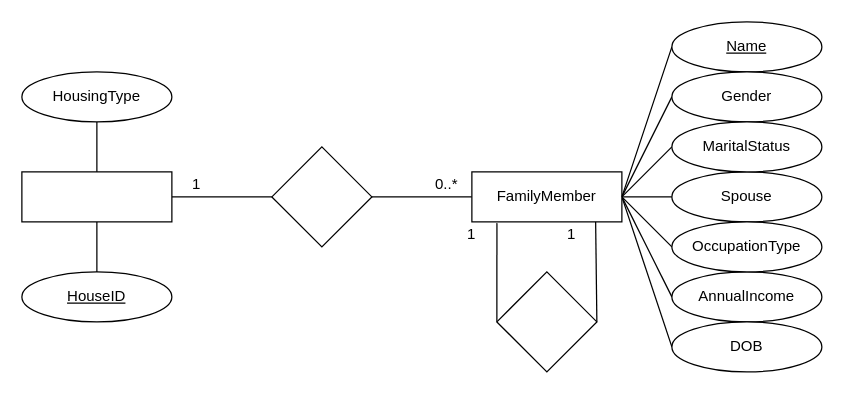
Image size: 844x394. Some labels were removed from this diagram. The centre of each missing label's shape, as x and y in pixels:
Household: the point at 96,196
Lives In: the point at 321,196
Married To: the point at 546,321
